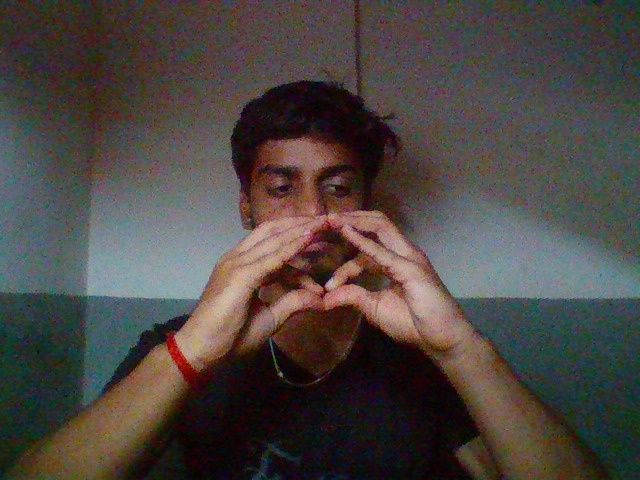B: (177, 194, 477, 363)
